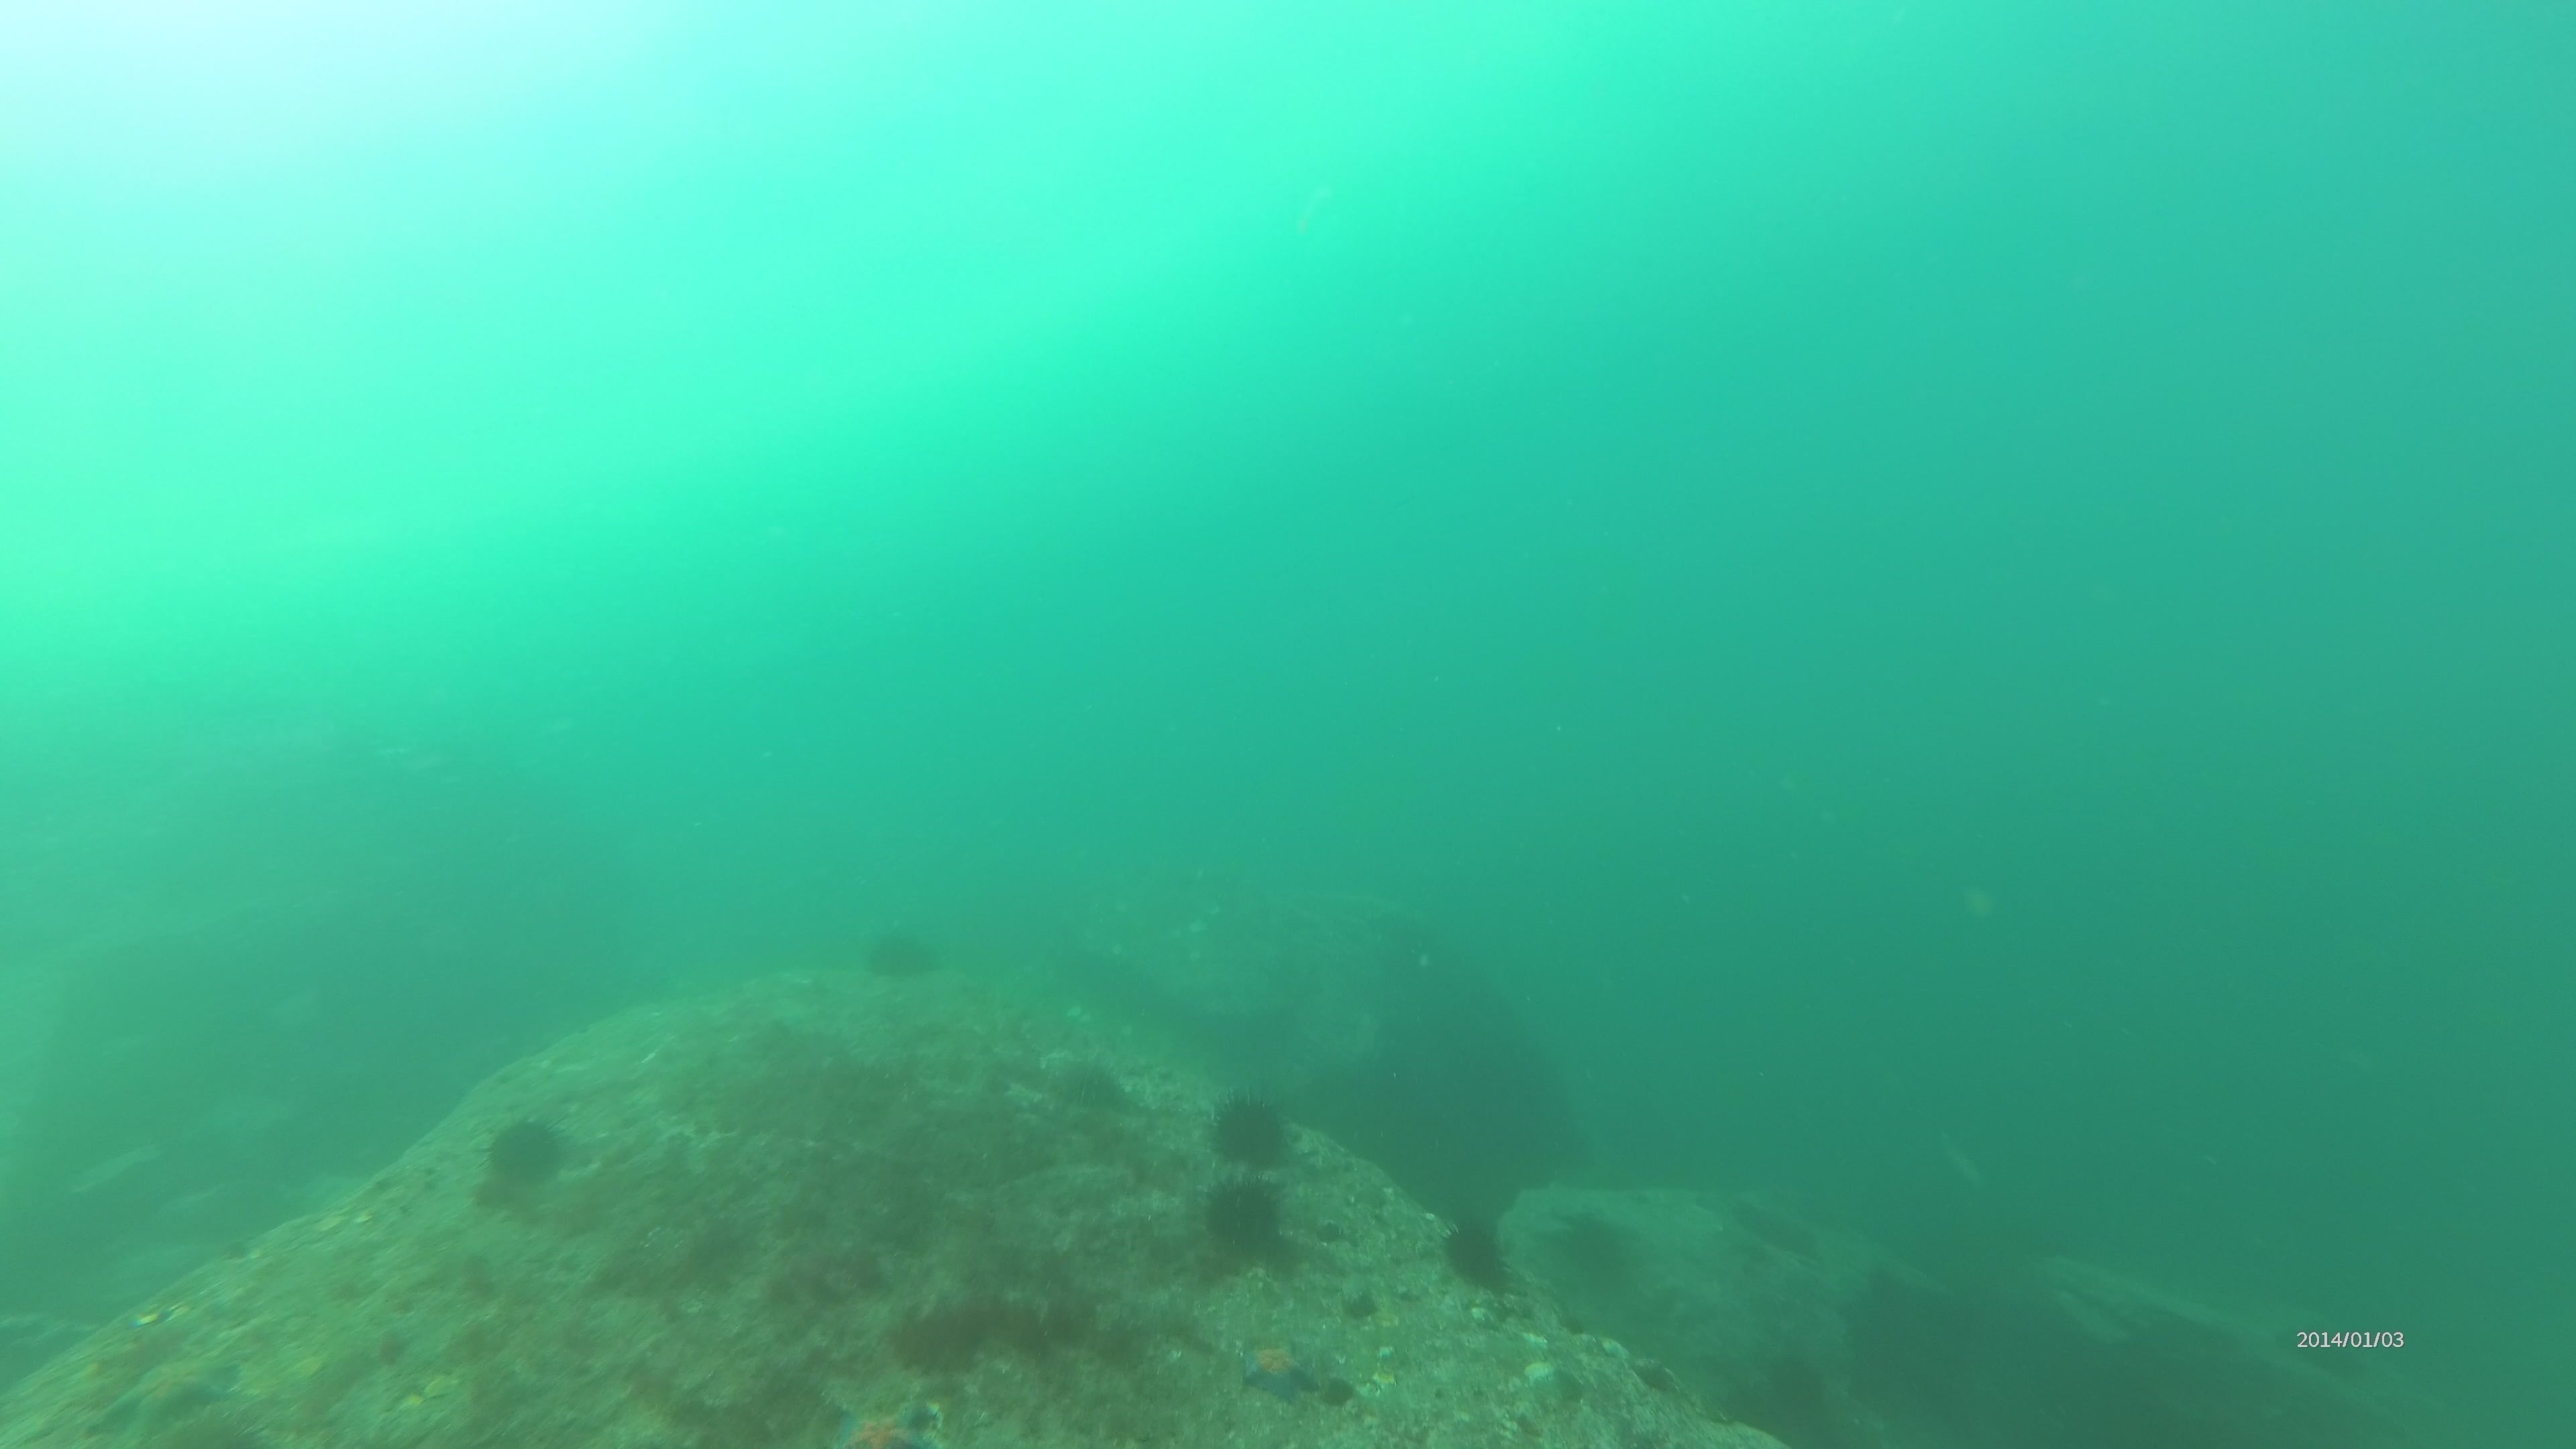echinus: (471, 1106, 577, 1205), (1196, 1171, 1295, 1265), (1203, 1083, 1302, 1173), (1435, 1208, 1518, 1295), (1047, 1051, 1132, 1122), (858, 918, 945, 987)
starfish: (88, 1339, 244, 1440), (1226, 1327, 1334, 1407), (819, 1378, 945, 1444)
